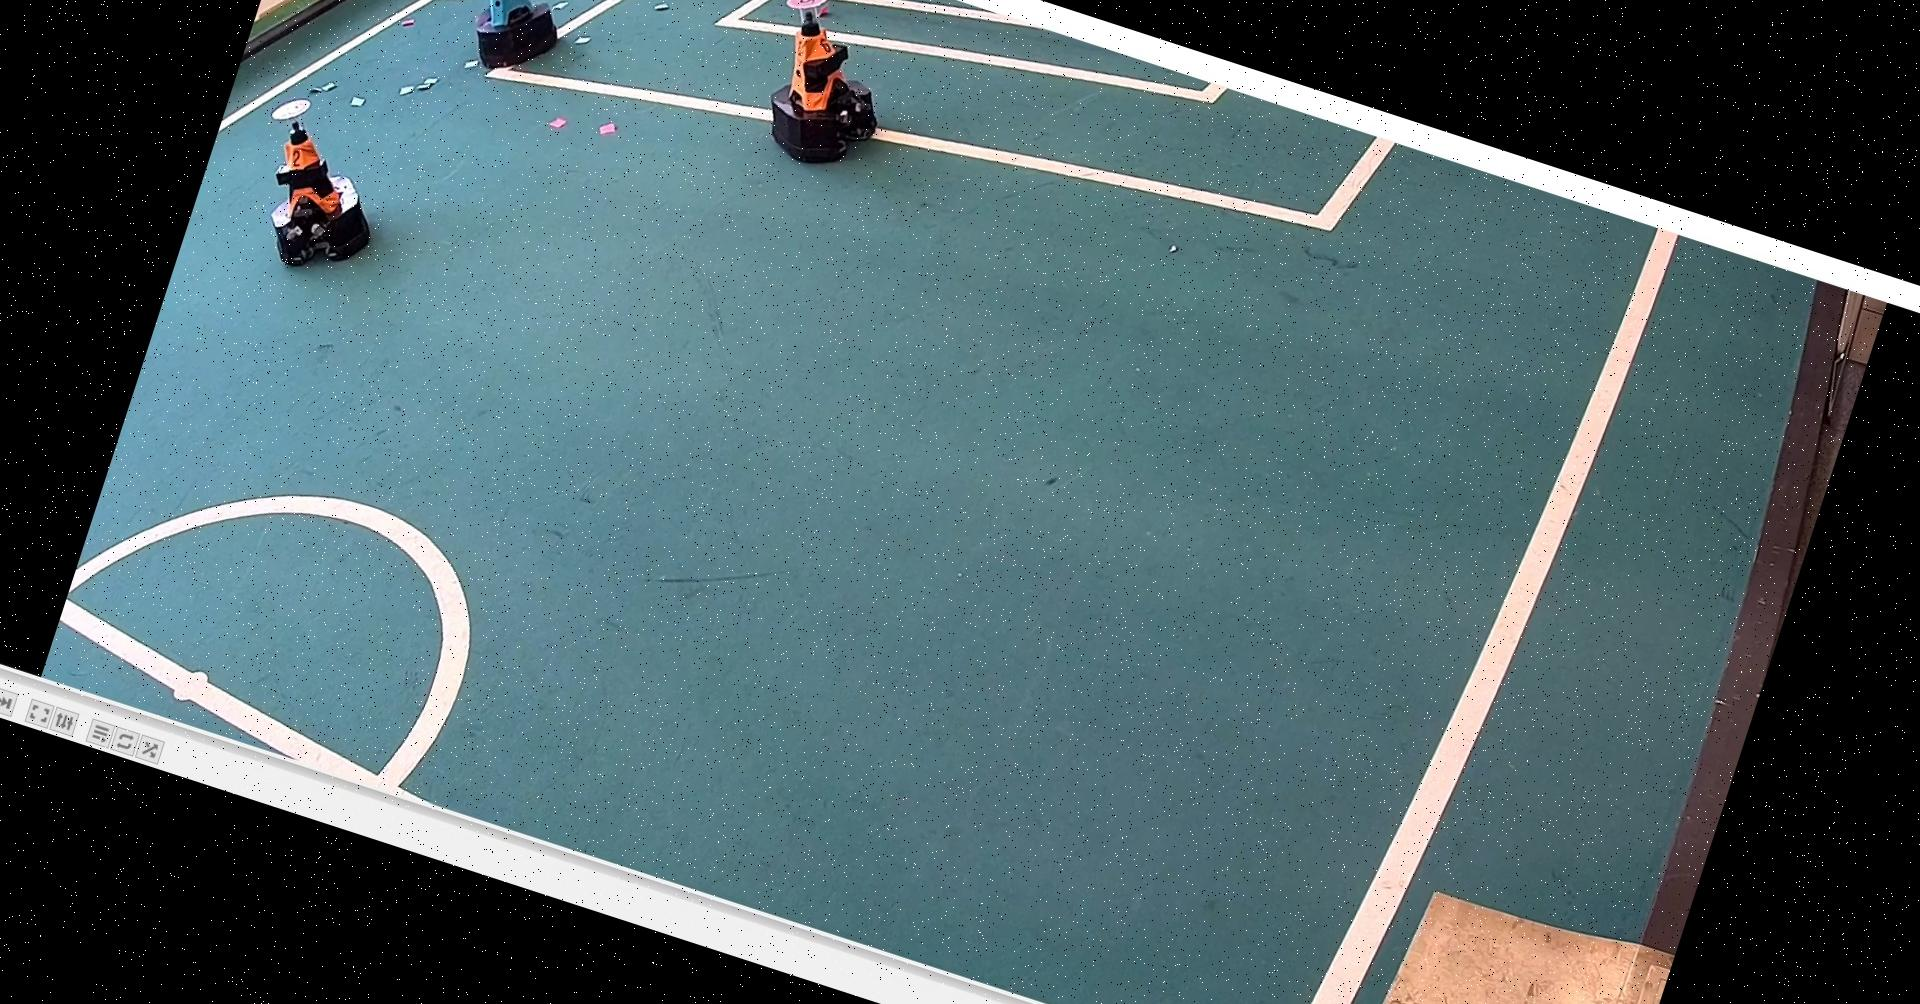Team_Blue: (442, 0, 589, 91)
Team_Red: (229, 91, 418, 294), (740, 0, 919, 190)
